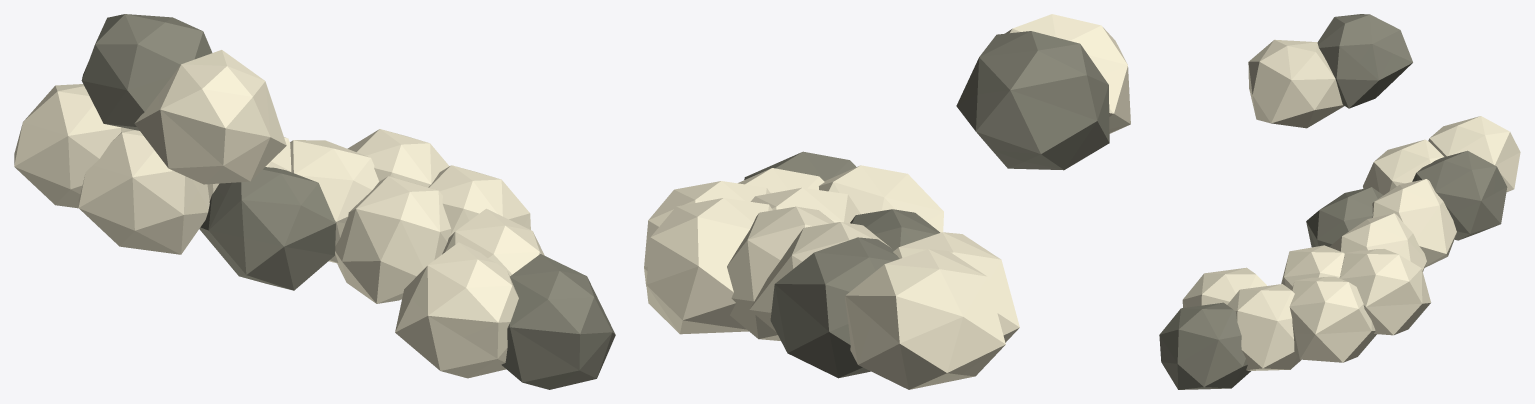
File: cloud_1.FBX
The picture shows the model from 3 angles, left to right: view 1: azimuth 30°, elevation 25°; view 2: azimuth 150°, elevation 25°; view 3: azimuth 270°, elevation 25°; orthographic projection. The views are drawn at different scales.
Parts seen in each view (by area): view 1: cloud_1; view 2: cloud_1; view 3: cloud_1.
Part boxes in pixels (x1,y1,x2,y2): cloud_1: (14,14,615,389); cloud_1: (644,14,1130,389); cloud_1: (1159,14,1520,389).
Bounding box in the file's own units: 1734 × 1409 × 1762.
